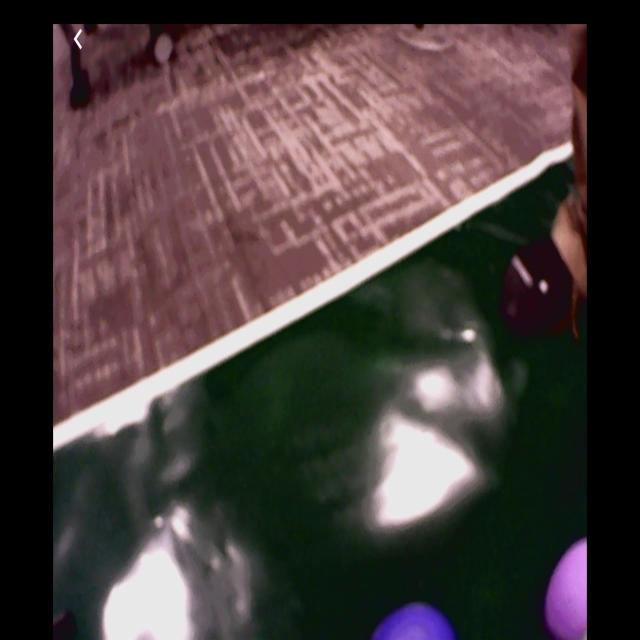ball: (545, 543, 588, 640), (376, 605, 456, 640)
